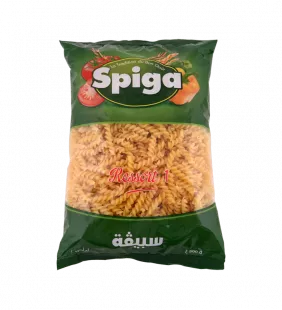SPIGA: (52, 29, 236, 276)
